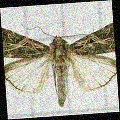Spodoptera litura: (4, 20, 116, 109)
